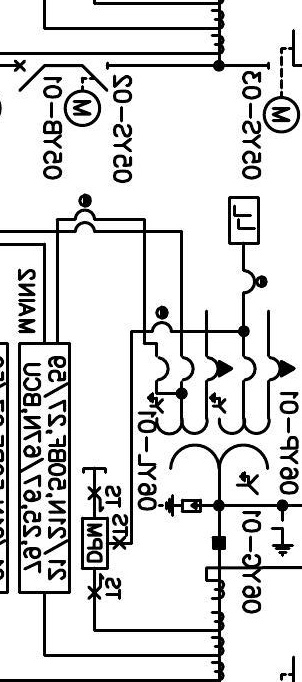115_1way_ds_w_motor: (261, 28, 300, 135), (63, 61, 110, 129)
115_breaker: (13, 59, 45, 93)
115_gs: (270, 517, 295, 558)
115_la: (157, 493, 202, 518)
115_vt_3p: (146, 355, 297, 496)
DPM: (81, 517, 109, 570)
LL: (228, 195, 261, 245)
